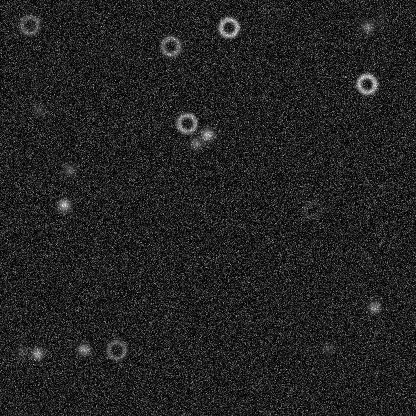Ring: (216, 15, 240, 39), (158, 33, 182, 57), (104, 337, 128, 361), (354, 71, 378, 95), (300, 197, 324, 221), (17, 12, 41, 36), (174, 111, 198, 135)
Spot: (359, 18, 375, 34), (30, 101, 46, 117), (366, 299, 382, 315), (55, 196, 71, 212), (13, 343, 29, 359), (187, 135, 203, 151), (28, 345, 44, 361), (198, 126, 214, 142), (61, 162, 77, 178), (319, 340, 335, 356), (372, 13, 388, 29), (75, 341, 91, 357)
